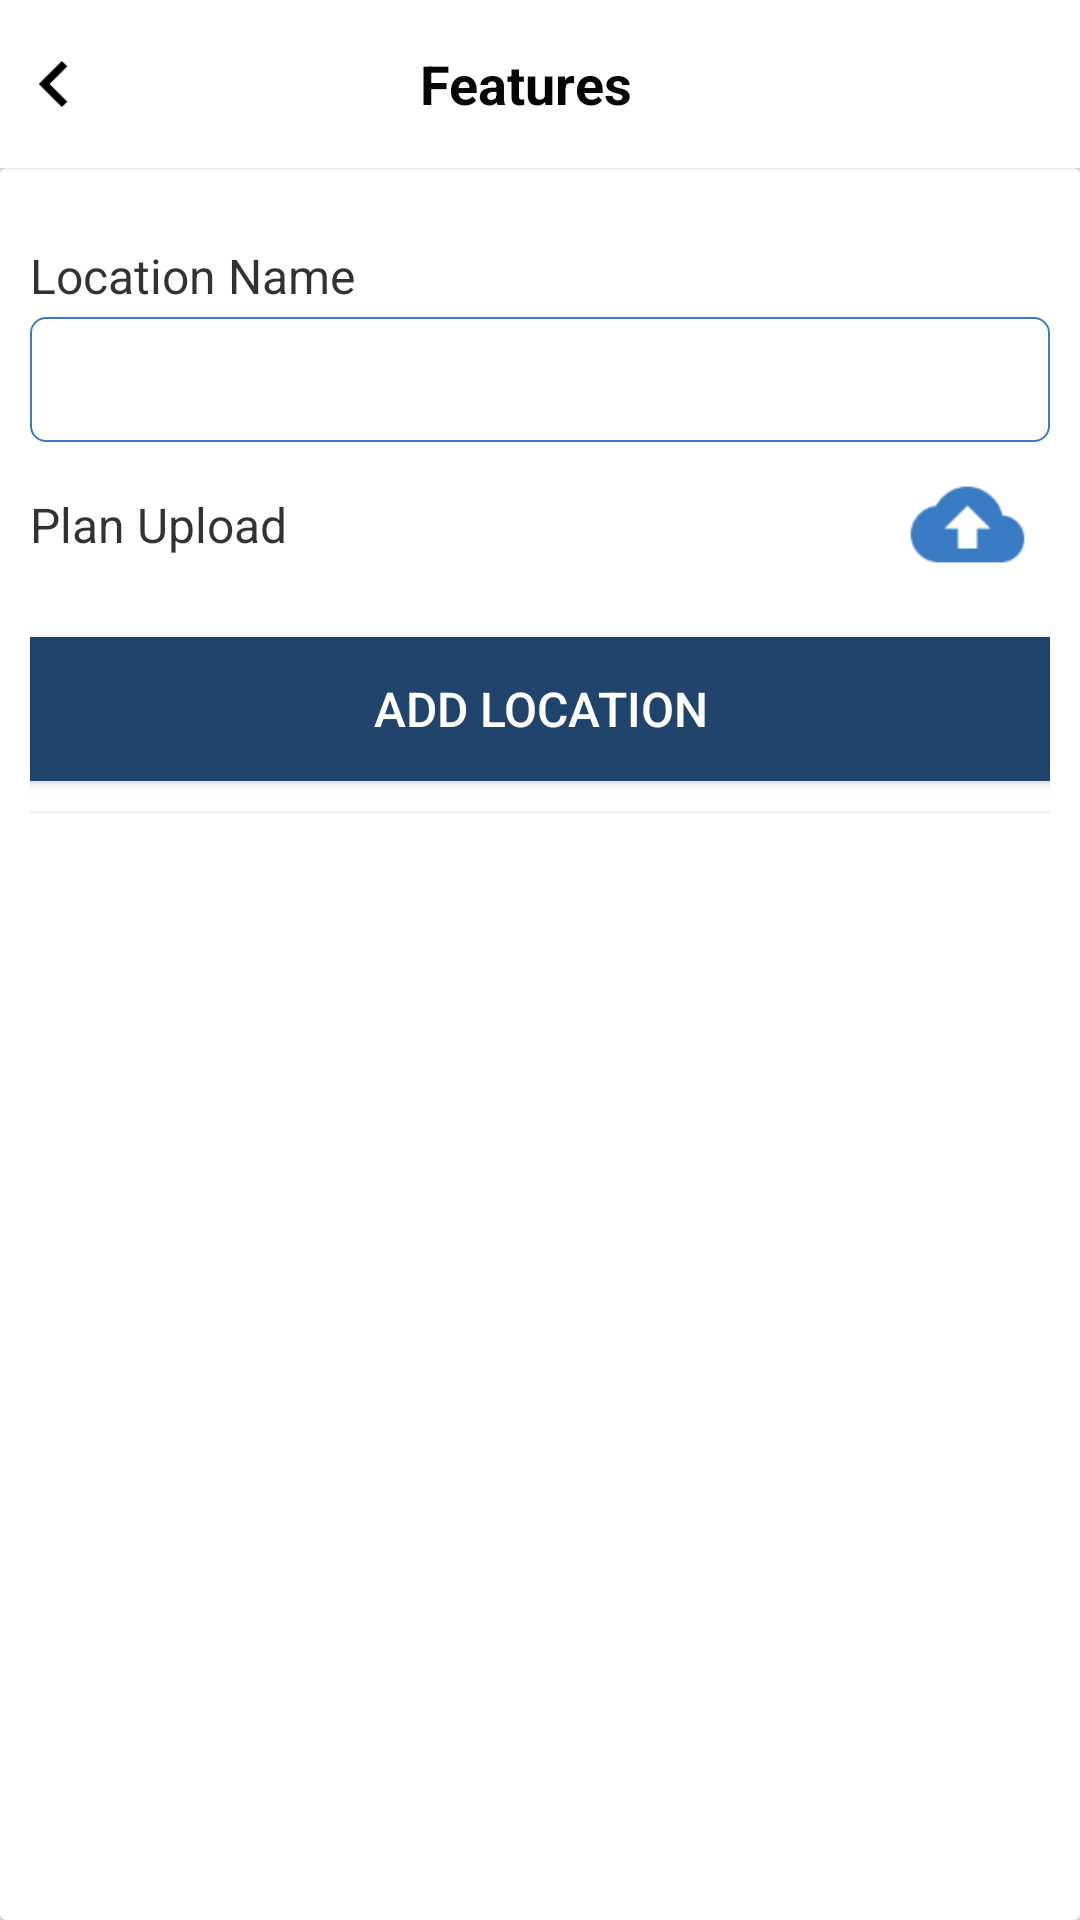

Screen size 1080 x 1920. Icon name, then its center in pixels as [x,y]:
chevron left: [53,84]
cloud upload: [967,524]
